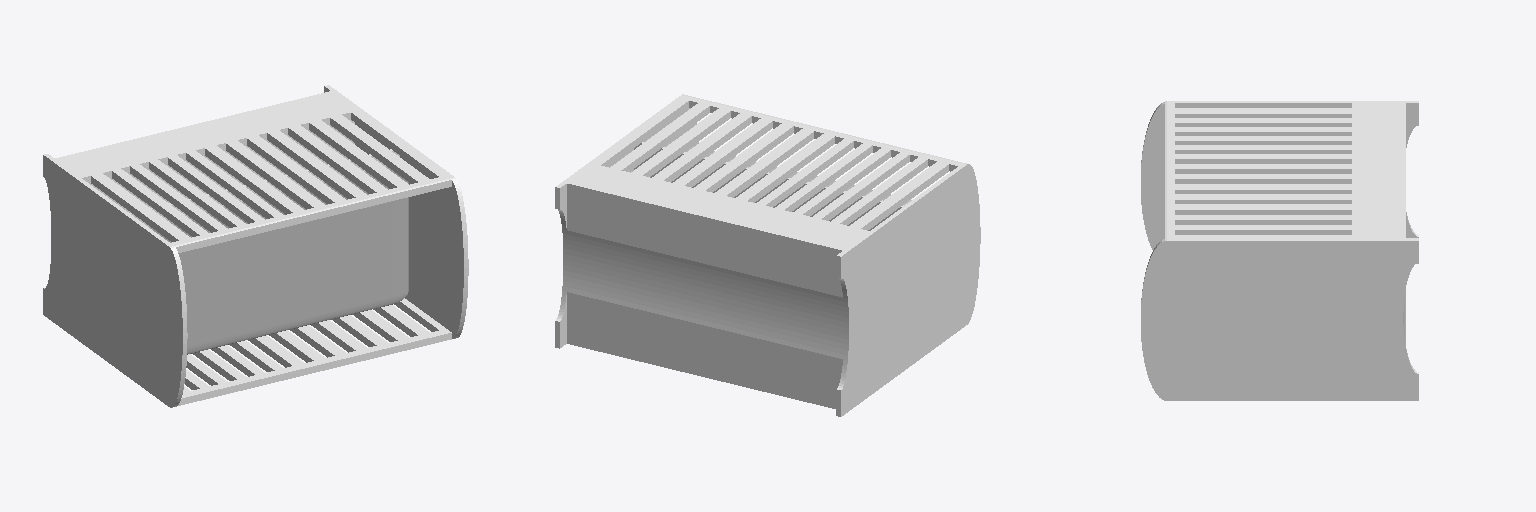
Rendered from gonnat.obj.
3 views of the same model, side by side, from view 1: azimuth 30°, elevation 25°; view 2: azimuth 150°, elevation 25°; view 3: azimuth 270°, elevation 25° (orthographic).
Visible parts, largest first — view 1: obj_0; view 2: obj_0; view 3: obj_0.
Part boxes in pixels (bbox=[...]): obj_0: bbox=[43, 85, 468, 407]; obj_0: bbox=[555, 94, 980, 416]; obj_0: bbox=[1141, 101, 1418, 400].
Size of the model in its own units: 123 by 70 by 104.